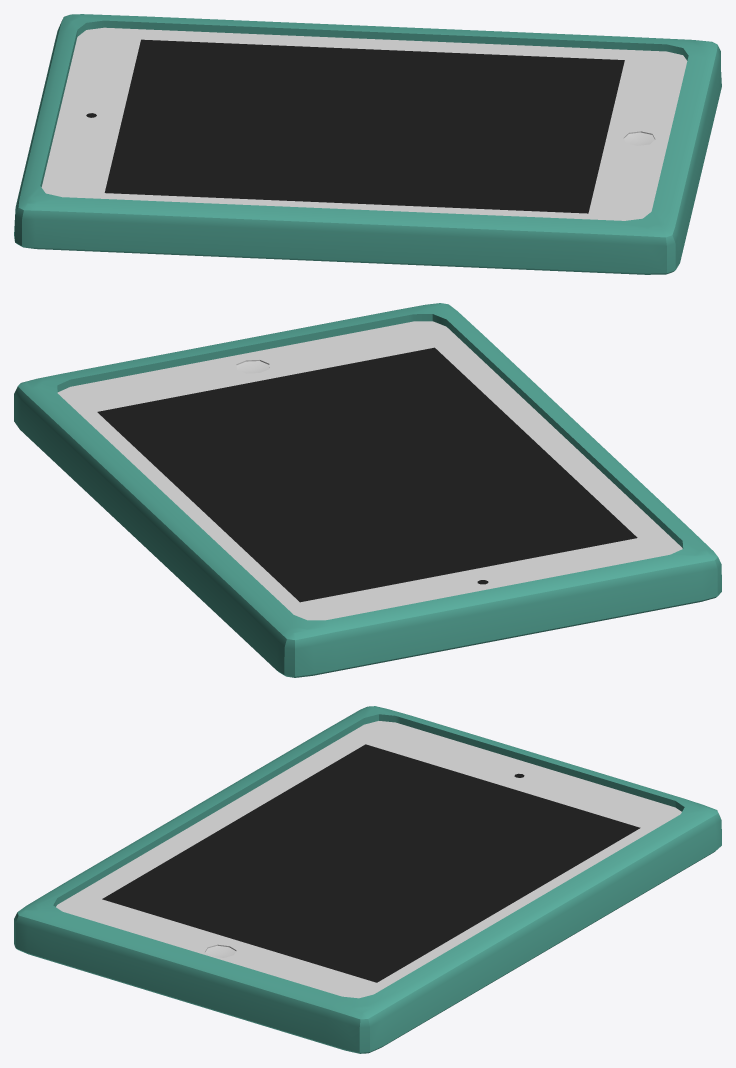
File: iPad.fbx
3 views of the same model, one above another, from view 1: azimuth 30°, elevation 25°; view 2: azimuth 150°, elevation 25°; view 3: azimuth 270°, elevation 25° (orthographic). The views are drawn at different scales.
Parts seen in each view (by area): view 1: pasted__pCube1; view 2: pasted__pCube1; view 3: pasted__pCube1.
Part boxes in pixels (bbox=[...]): pasted__pCube1: bbox=[14, 14, 721, 274]; pasted__pCube1: bbox=[14, 303, 721, 677]; pasted__pCube1: bbox=[14, 706, 721, 1053].
Bounding box in the file's own units: 1.4 × 0.0817 × 1.33.
